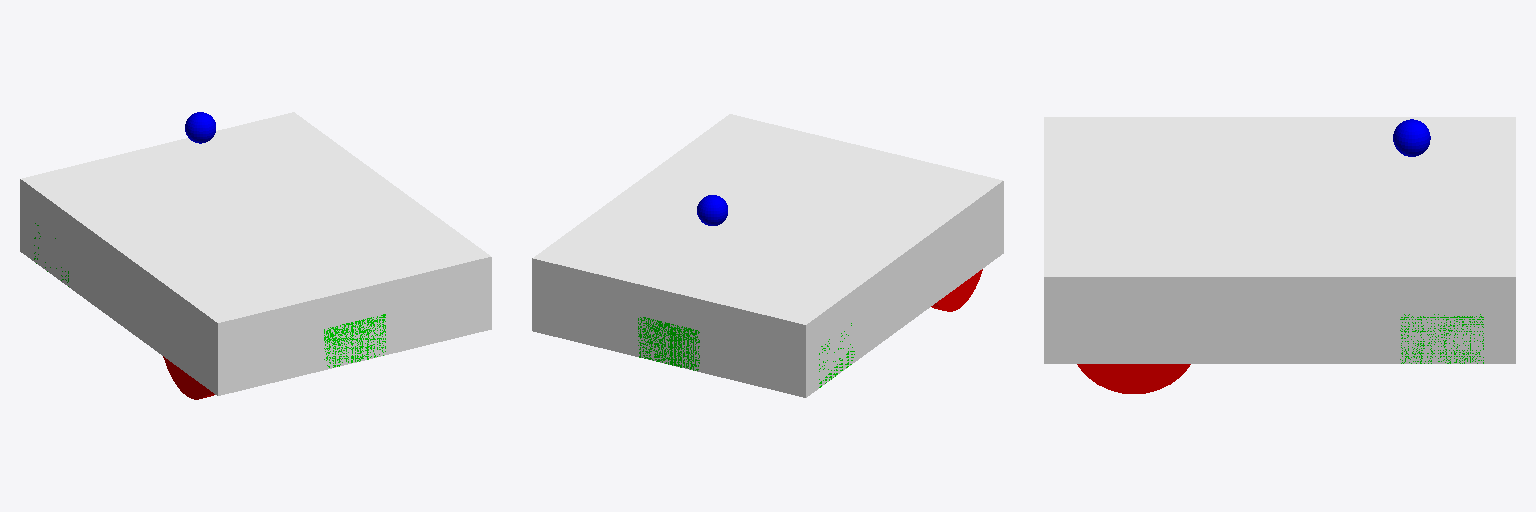
The robot description file, URDF, robot "rover":
<?xml version="1.0"?>
<robot name="rover">
    <link name="base_link">
        <visual>
            <geometry>
                <box size="0.20 0.250 0.051"/>
            </geometry>
            <material name="white">
                <color rgba="1 1 1 0.2"/>
            </material>
        </visual>
    </link>
    <link name="wheel_left">
        <visual>
            <geometry>
                <cylinder length="0.0086" radius="0.035" />
            </geometry>
            <material name="red">
                <color rgba="1 0. 0. 1"/>
            </material>
        </visual>
    </link>
    <joint name="wheel_left_joint" type="fixed">
        <axis xyz="1 1 1"/>
        <parent link="base_link"/>
        <child link="wheel_left"/>
        <origin rpy="1.57079632679 0 1.57079632679" xyz="-0.0914 -0.0775 -.0105"/>
    </joint>
    <link name="wheel_right">
        <visual>
            <geometry>
                <cylinder length="0.0086" radius="0.035" />
            </geometry>
            <material name="red">
                <color rgba="1 0. 0. 1"/>
            </material>
        </visual>
    </link>
    <joint name="wheel_right_joint" type="fixed">
        <axis xyz="1 1 1"/>
        <parent link="base_link"/>
        <child link="wheel_right"/>
        <origin rpy="1.57079632679 0 1.57079632679" xyz="0.0914 -0.0775 -.0105"/>
    </joint>
    <link name="caster">
        <visual>
            <geometry>
                <sphere radius="0.017" />
            </geometry>
            <material name="red">
                <color rgba="1 0. 0. 1"/>
            </material>
        </visual>
    </link>
    <joint name="caster_joint" type="fixed">
        <axis xyz="1 1 1"/>
        <parent link="base_link"/>
        <child link="caster"/>
        <origin rpy="0 0 0" xyz="0 0.07 -0.0235"/>
    </joint>

    <!-- ultrasonic sensors -->
    
    <link name="ultrasonic_front">
        <visual>
            <geometry>
                <box size="0.045 0.030 0.029"/>
            </geometry>
            <material name="green_50">
                <color rgba="0 1 0 0.5"/>
            </material>
        </visual>
    </link>
    <joint name="ultrasonic_front_joint" type="fixed">
        <axis xyz="1 1 1"/>
        <parent link="base_link"/>
        <child link="ultrasonic_front"/>
        <origin rpy="0 0 0" xyz="0 0.11 -0.011"/>
    </joint>

    <link name="ultrasonic_front_emission_point">
        <visual>
            <geometry>
                <sphere radius="0.01" />
            </geometry>
            <material name="red">
                <color rgba="1 0 0 1"/>
            </material>
        </visual>
    </link>
    <joint name="ultrasonic_front_emission_joint" type="fixed">
        <axis xyz="1 1 1"/>
        <parent link="base_link"/>
        <child link="ultrasonic_front_emission_point"/>
        <origin rpy="0 0 1.57079632679" xyz="0 0.11 -0.011"/>
    </joint>
    
    <link name="ultrasonic_back">
        <visual>
            <geometry>
                <box size="0.045 0.030 0.029"/>
            </geometry>
            <material name="green_50">
                <color rgba="0 1 0 0.5"/>
            </material>
        </visual>
    </link>
    <joint name="ultrasonic_back_joint" type="fixed">
        <axis xyz="1 1 1"/>
        <parent link="base_link"/>
        <child link="ultrasonic_back"/>
        <origin rpy="0 0 3.141592654" xyz="0 -0.11 -0.011"/>
    </joint>

    <link name="ultrasonic_back_emission_point">
        <visual>
            <geometry>
                <sphere radius="0.01" />
            </geometry>
            <material name="red">
                <color rgba="1 0 0 1"/>
            </material>
        </visual>
    </link>
    <joint name="ultrasonic_back_emission_joint" type="fixed">
        <axis xyz="1 1 1"/>
        <parent link="base_link"/>
        <child link="ultrasonic_back_emission_point"/>
        <origin rpy="0 0 -1.57079632679" xyz="0 -0.11 -0.011"/>
    </joint>

    <link name="ultrasonic_left">
        <visual>
            <geometry>
                <box size="0.045 0.030 0.029"/>
            </geometry>
            <material name="green_50">
                <color rgba="0 1 0 0.5"/>
            </material>
        </visual>
    </link>
    <joint name="ultrasonic_left_joint" type="fixed">
        <axis xyz="1 1 1"/>
        <parent link="base_link"/>
        <child link="ultrasonic_left"/>
        <origin rpy="0 0 1.57079632679" xyz="-0.085 0.086 -0.011"/>
    </joint>

    <link name="ultrasonic_left_emission_point">
        <visual>
            <geometry>
                <sphere radius="0.01" />
            </geometry>
            <material name="red">
                <color rgba="1 0 0 1"/>
            </material>
        </visual>
    </link>
    <joint name="ultrasonic_left_emission_joint" type="fixed">
        <axis xyz="1 1 1"/>
        <parent link="base_link"/>
        <child link="ultrasonic_left_emission_point"/>
        <origin rpy="0 0 3.141592654" xyz="-0.085 0.086 -0.011"/>
    </joint>

    <link name="ultrasonic_right">
        <visual>
            <geometry>
                <box size="0.045 0.030 0.029"/>
            </geometry>
            <material name="green_50">
                <color rgba="0 1 0 0.5"/>
            </material>
        </visual>
    </link>
    <joint name="ultrasonic_right_joint" type="fixed">
        <axis xyz="1 1 1"/>
        <parent link="base_link"/>
        <child link="ultrasonic_right"/>
        <origin rpy="0 0 -1.57079632679" xyz="0.085 0.086 -0.011"/>
    </joint>

    <link name="ultrasonic_right_emission_point">
        <visual>
            <geometry>
                <sphere radius="0.01" />
            </geometry>
            <material name="red">
                <color rgba="1 0 0 1"/>
            </material>
        </visual>
    </link>
    <joint name="ultrasonic_right_emission_joint" type="fixed">
        <axis xyz="1 1 1"/>
        <parent link="base_link"/>
        <child link="ultrasonic_right_emission_point"/>
        <origin rpy="0 0 0" xyz="0.085 0.086 -0.011"/>
    </joint>

    <link name="laser_scan_center_point">
        <visual>
            <geometry>
                <sphere radius="0.01" />
            </geometry>
            <material name="yellow">
                <color rgba="1 1 0 1"/>
            </material>
        </visual>
    </link>
    <joint name="laser_scan_center_joint" type="fixed">
        <axis xyz="1 1 1"/>
        <parent link="base_link"/>
        <child link="laser_scan_center_point"/>
        <origin rpy="0 0 0" xyz="0 0 -0.011"/>
    </joint>

    <link name="head_indication">
        <visual>
            <geometry>
                <sphere radius="0.01" />
            </geometry>
            <material name="blue">
                <color rgba="0 0. 1 1"/>
            </material>
        </visual>
    </link>
    <joint name="head_indication_joint" type="fixed">
        <axis xyz="1 1 1"/>
        <parent link="base_link"/>
        <child link="head_indication"/>
        <origin rpy="0 0 0" xyz="0 0.07 0.06"/>
    </joint>

    <gazebo>
        <plugin name="joint_state_publisher" filename="libgazebo_ros_joint_state_publisher.so">
            <jointName>wheel_left_joint, wheel_right_joint, caster_joint, ultrasonic_front_joint, ultrasonic_back_joint, ultrasonic_left_joint, ultrasonic_right_joint, ultrasonic_front_emission_point, ultrasonic_back_emission_point, ultrasonic_left_emission_point, ultrasonic_right_emission_point, laser_scan_center_joint</jointName>
        </plugin>
    </gazebo>
</robot>

--- Facts derived from the render (not from the file) ---
3 views of the same robot in one strip: view 1: azimuth 30°, elevation 25°; view 2: azimuth 150°, elevation 25°; view 3: azimuth 270°, elevation 25° (orthographic).
Model rover with 14 links and 13 joints (13 fixed), rooted at base_link, posed every joint at zero.
Links seen in each view (by area): view 1: base_link, ultrasonic_back, wheel_left, head_indication; view 2: base_link, ultrasonic_front, wheel_left, head_indication; view 3: base_link, wheel_right, head_indication, ultrasonic_right.
Link boxes in pixels (bbox=[...]): base_link: bbox=[20, 112, 491, 395]; ultrasonic_back: bbox=[324, 314, 385, 367]; wheel_left: bbox=[163, 356, 214, 399]; head_indication: bbox=[185, 112, 215, 143]; base_link: bbox=[532, 114, 1003, 397]; ultrasonic_front: bbox=[638, 317, 699, 370]; wheel_left: bbox=[931, 269, 982, 311]; head_indication: bbox=[697, 195, 727, 225]; base_link: bbox=[1044, 117, 1515, 363]; wheel_right: bbox=[1077, 364, 1190, 393]; head_indication: bbox=[1393, 119, 1430, 156]; ultrasonic_right: bbox=[1400, 314, 1483, 363].
Bounding box of the posed robot: 0.2 × 0.25 × 0.1155 m (x, y, z).
Geometry: primitives only (box / cylinder / sphere), no mesh files.